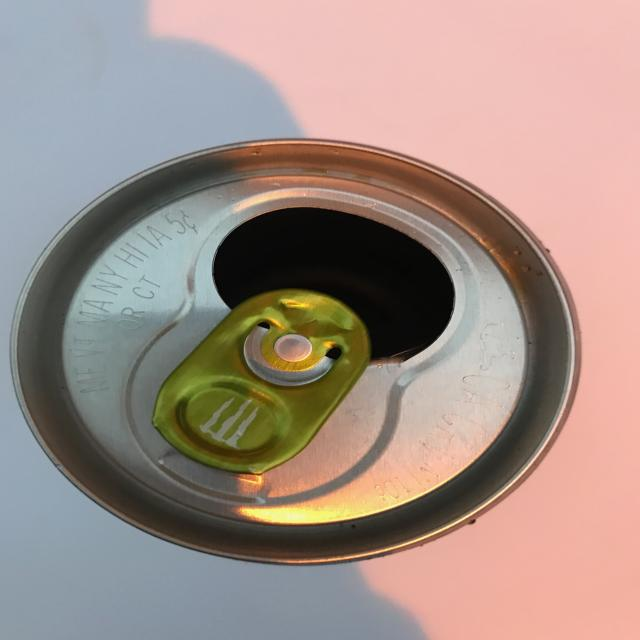metal: (9, 137, 582, 566)
